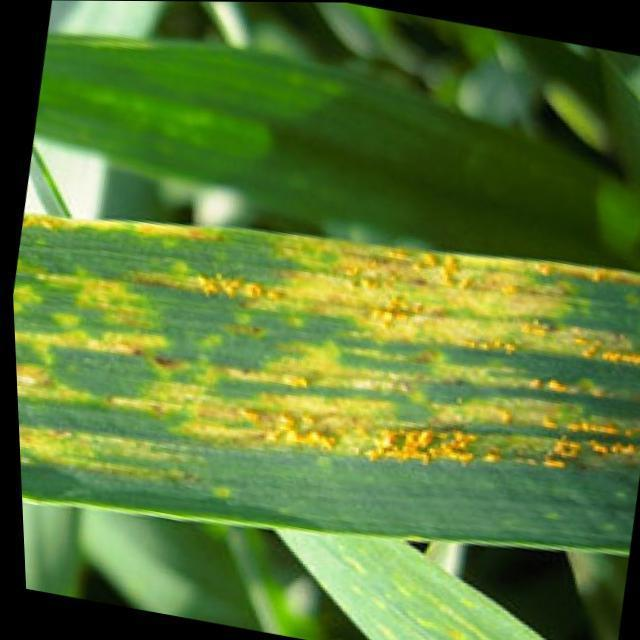Yellow_Rust: (9, 212, 639, 639)
